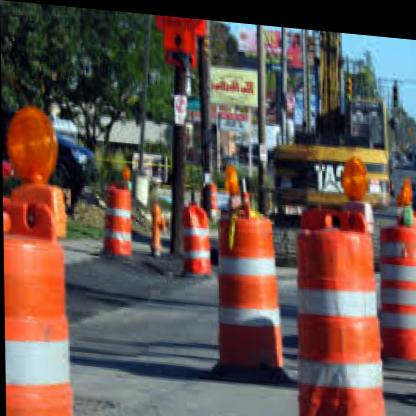obstacle: (288, 213, 379, 416), (216, 201, 280, 372), (101, 181, 134, 257)
